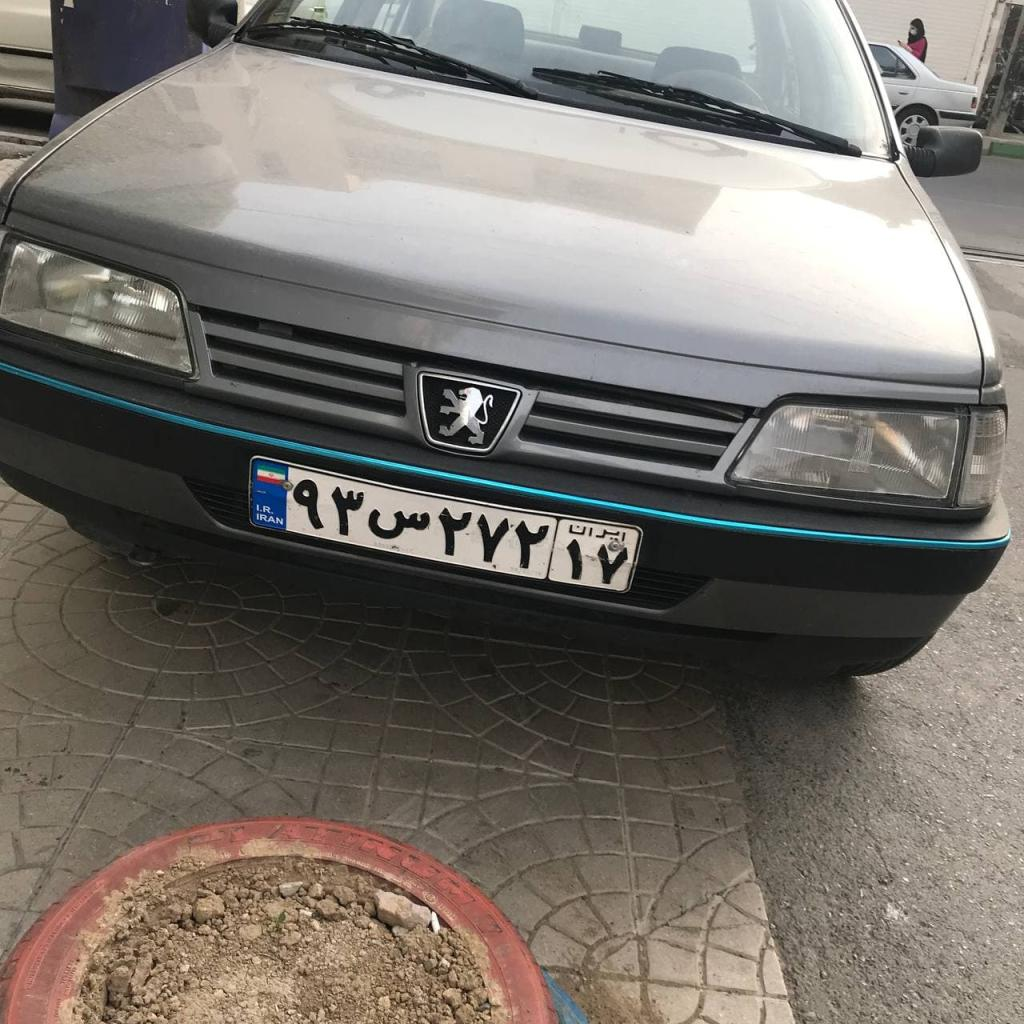Plates: (249, 456, 641, 592)
